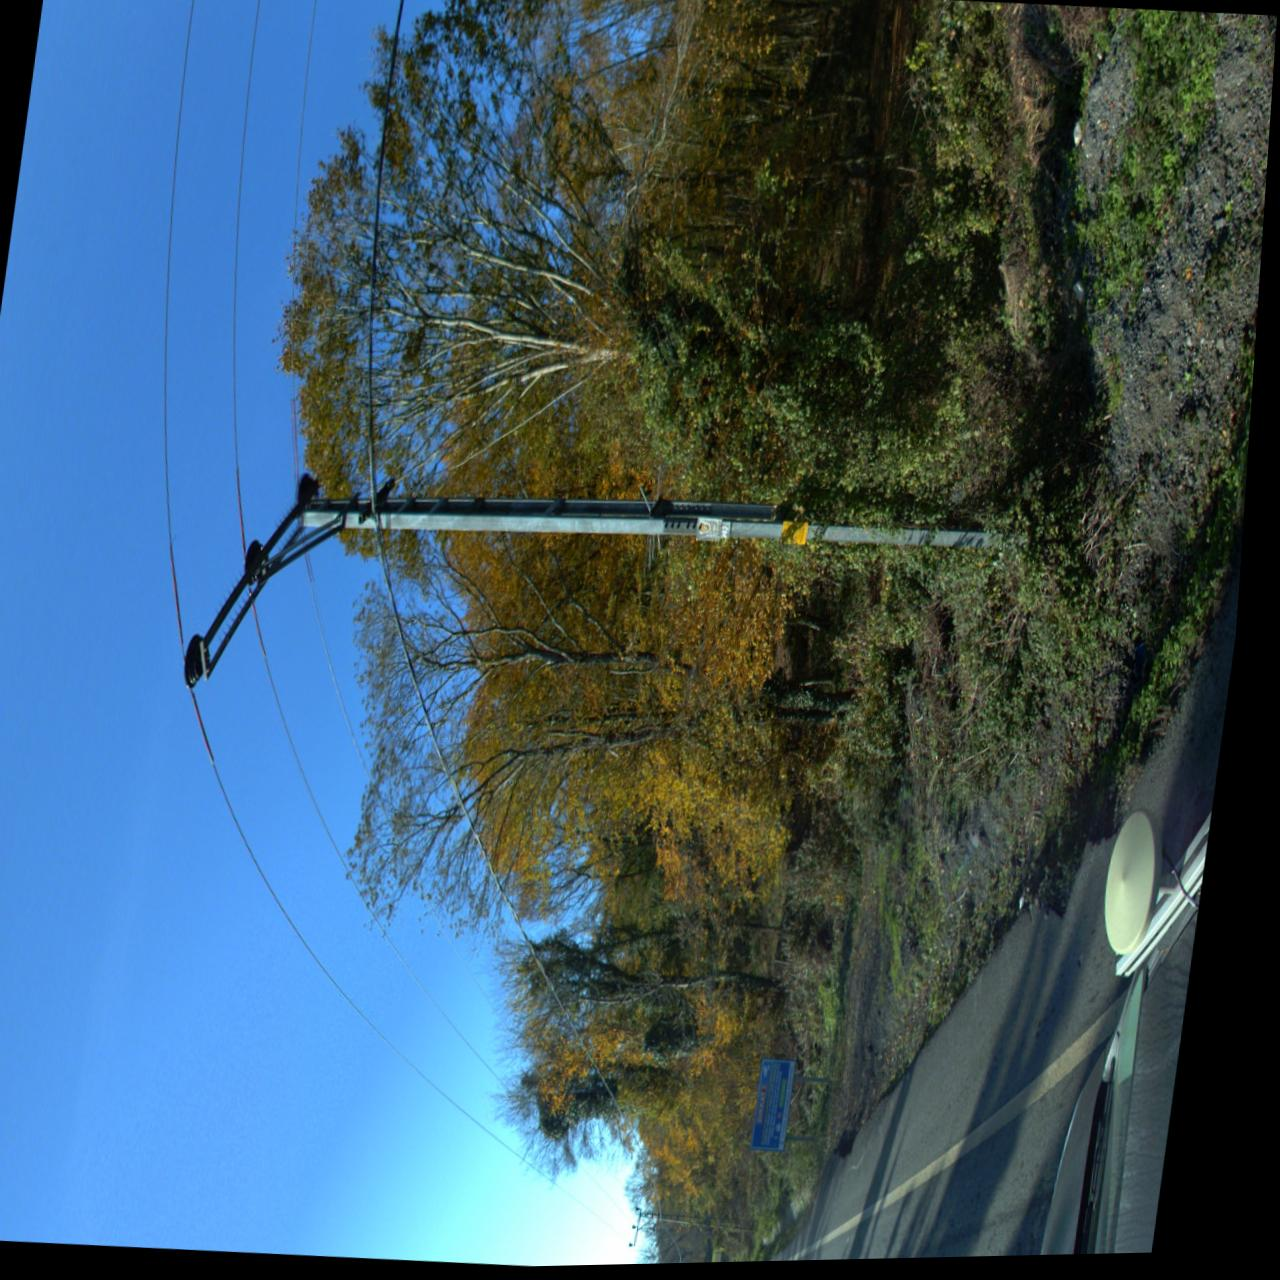Utility Pole Information Plate: (789, 523, 816, 549), (702, 519, 730, 544)
